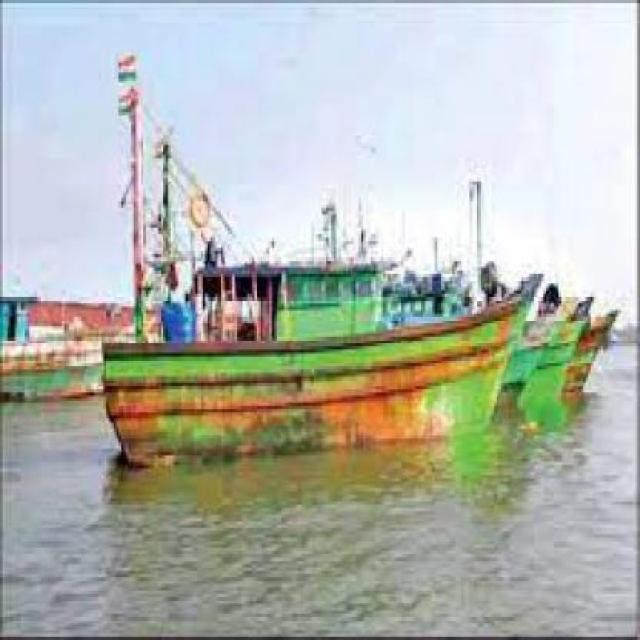fish-b: (67, 51, 560, 443)
